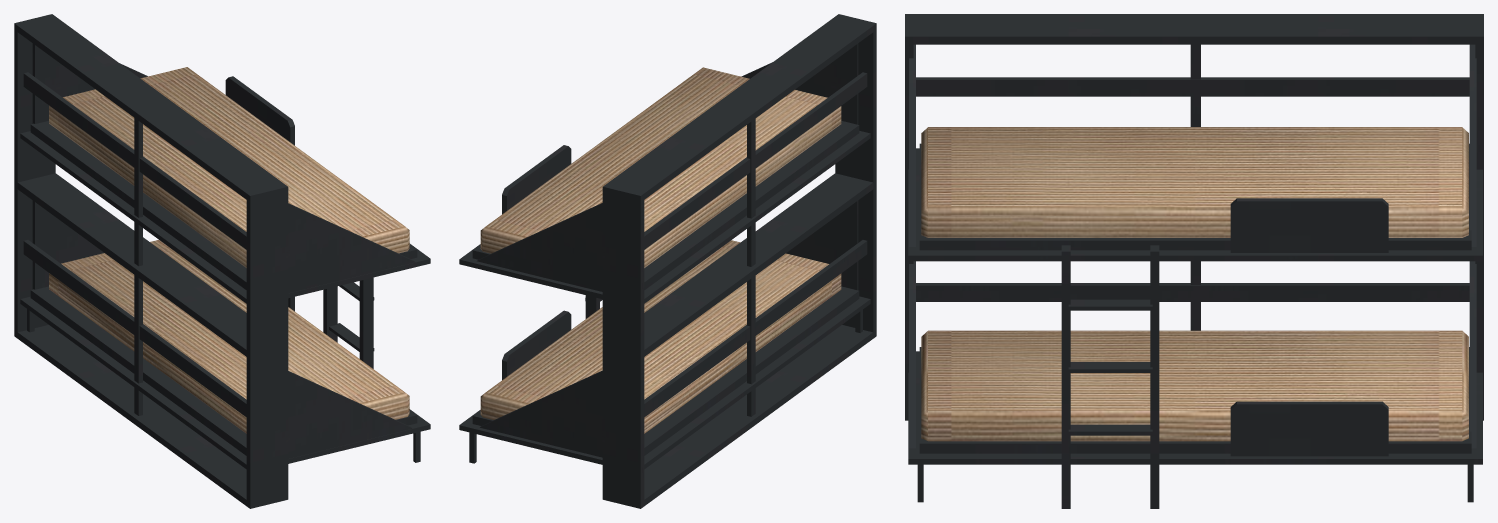
Rendered from Bed_06.glb.
3 renders of one model, left to right at view 1: azimuth 30°, elevation 25°; view 2: azimuth 150°, elevation 25°; view 3: azimuth 270°, elevation 25°, orthographic. The views are drawn at different scales.
Parts seen in each view (by area): view 1: Bed_06; view 2: Bed_06; view 3: Bed_06.
Part boxes in pixels (x1=…): Bed_06: x1=14, y1=14, x2=430, y2=508; Bed_06: x1=459, y1=14, x2=876, y2=508; Bed_06: x1=905, y1=14, x2=1483, y2=508.
Size of the model in its own units: 1.23 by 1.94 by 2.65.
2 materials, 2 textured.
